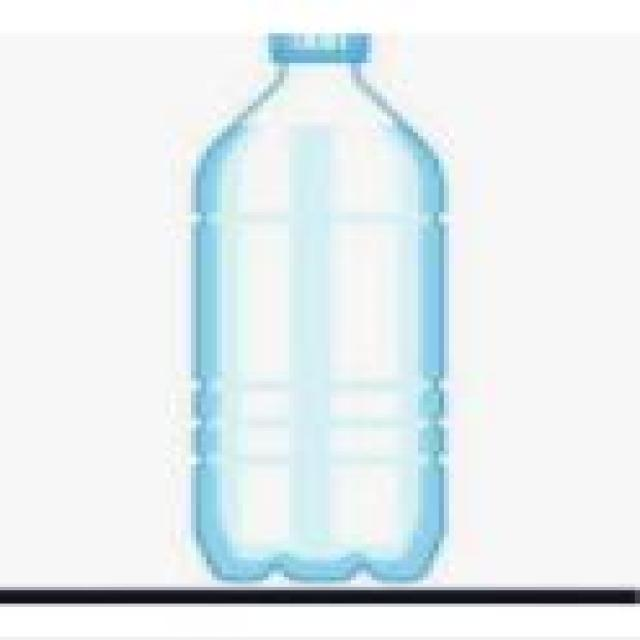bottle: (183, 21, 472, 592)
